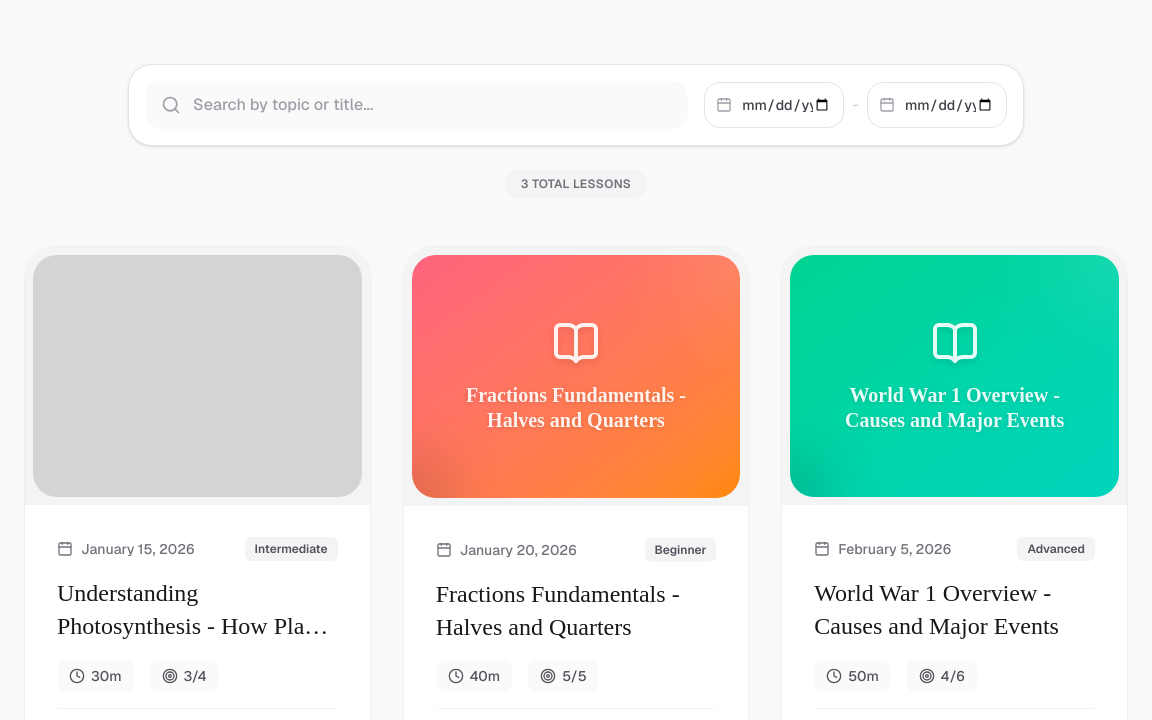
Test: LessonHistoryClient › filters lessons by date range
Step 1. Type "2026-01-18" into the date field named "Start Date" → (774, 105), box left=704, top=82, right=844, bottom=128
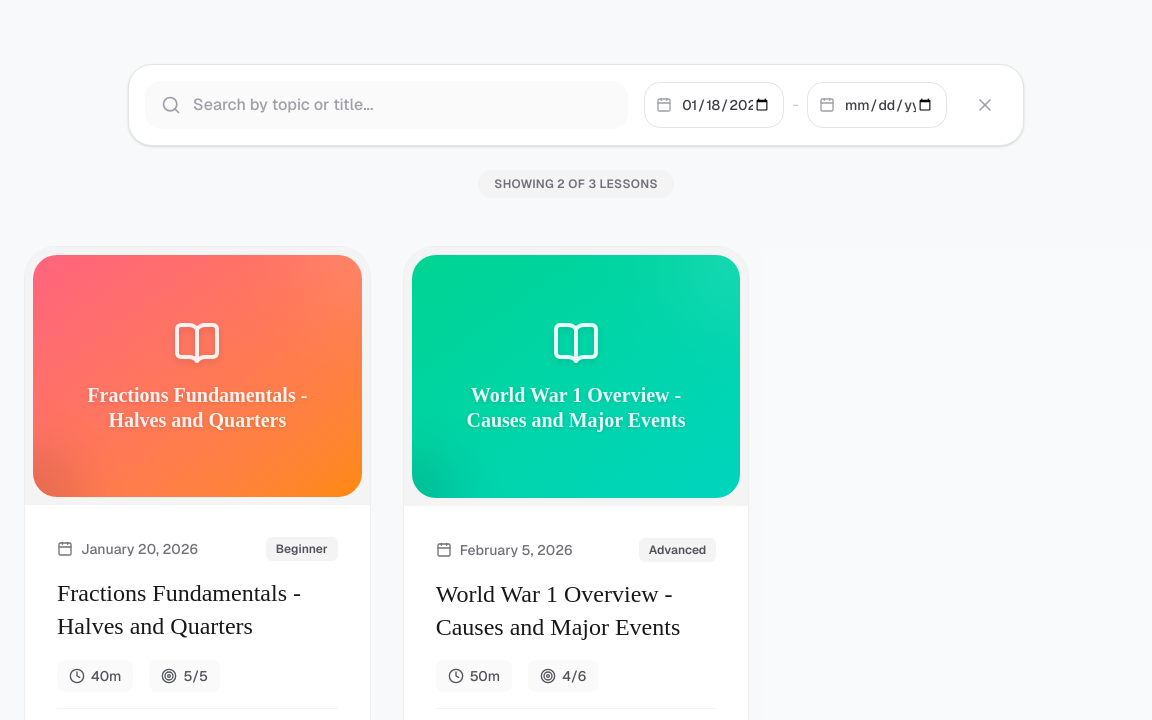
Step 2. Type "2026-01-31" into the date field named "End Date" → (877, 105), box left=807, top=82, right=947, bottom=128
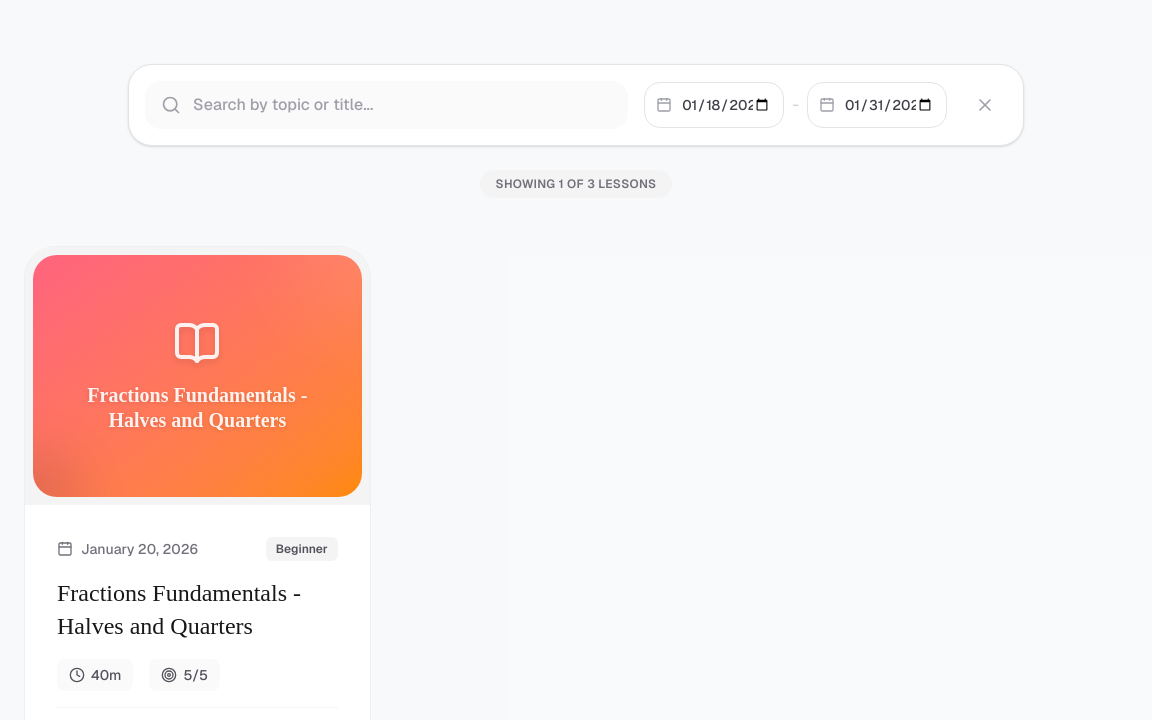
Expected: the text "Fractions Fundamentals - Halves and Quarters" is shown, left=87, top=384, right=307, bottom=431
Result: no links "World War 1 Overview - Causes and Major Events" are shown
